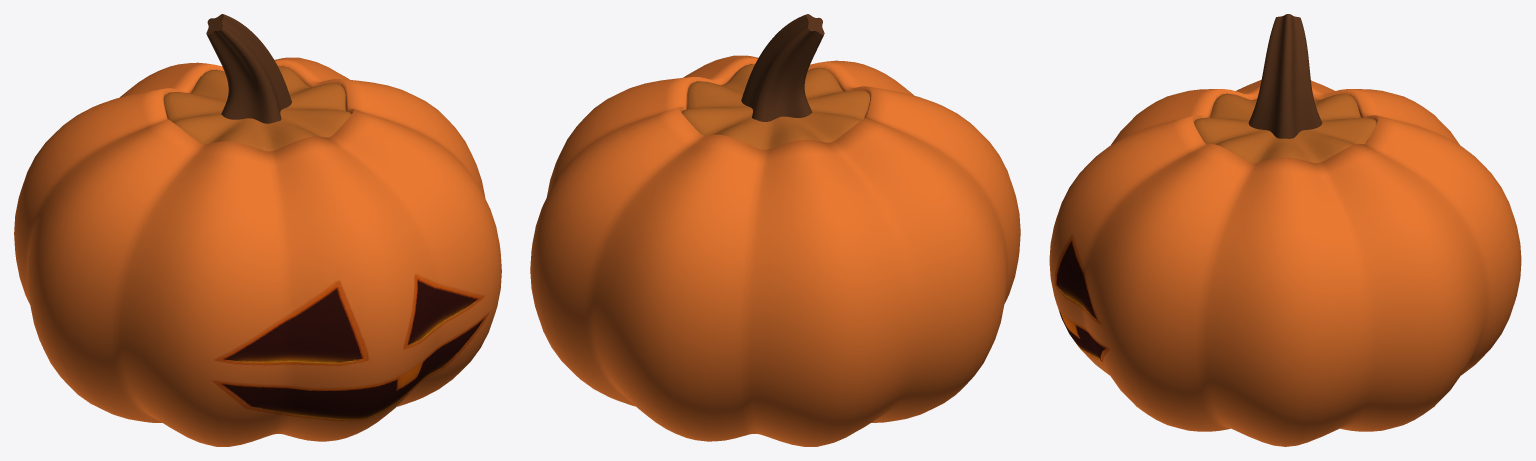
Rendered from Pumpkin.fbx.
The picture shows the model from 3 angles, left to right: view 1: azimuth 30°, elevation 25°; view 2: azimuth 150°, elevation 25°; view 3: azimuth 270°, elevation 25°; orthographic projection. The views are drawn at different scales.
Parts seen in each view (by area): view 1: Sphere, Sphere.001, NurbsPath; view 2: Sphere, Sphere.001, NurbsPath; view 3: Sphere, Sphere.001, NurbsPath.
Boxes of the visible parts, x1,y1,x2,y2 form: Sphere: [14, 57, 501, 446]; Sphere.001: [163, 66, 351, 151]; NurbsPath: [206, 14, 291, 123]; Sphere: [530, 55, 1020, 446]; Sphere.001: [681, 64, 870, 149]; NurbsPath: [741, 14, 824, 121]; Sphere: [1049, 80, 1521, 446]; Sphere.001: [1194, 93, 1376, 163]; NurbsPath: [1248, 14, 1322, 138].
Size of the model in its own units: 184 by 159 by 184.
3 materials, 1 textured.
